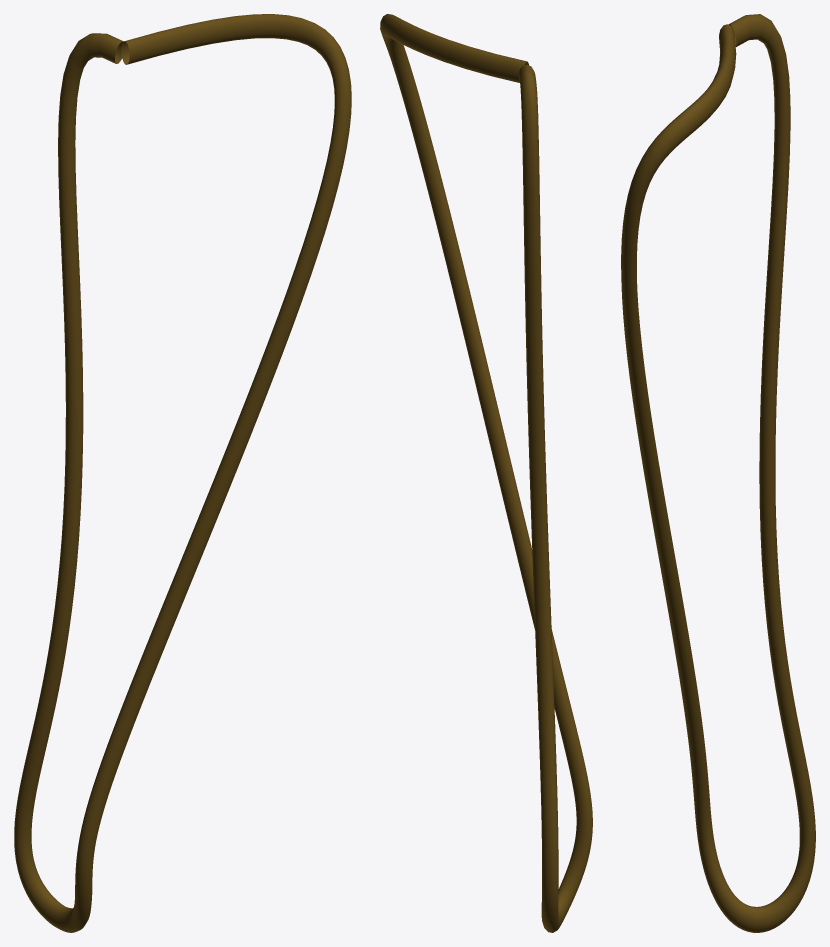
Rendered from rope - Copy.fbx.
3 renders of one model, left to right at view 1: azimuth 30°, elevation 25°; view 2: azimuth 150°, elevation 25°; view 3: azimuth 270°, elevation 25°, orthographic. The views are drawn at different scales.
Visible parts, largest first — view 1: rope2; view 2: rope2; view 3: rope2.
Boxes of the visible parts, x1=… form: rope2: x1=14, y1=14, x2=351, y2=932; rope2: x1=380, y1=14, x2=592, y2=932; rope2: x1=621, y1=14, x2=815, y2=932.
Bounding box in the file's own units: 100 × 333 × 63.
